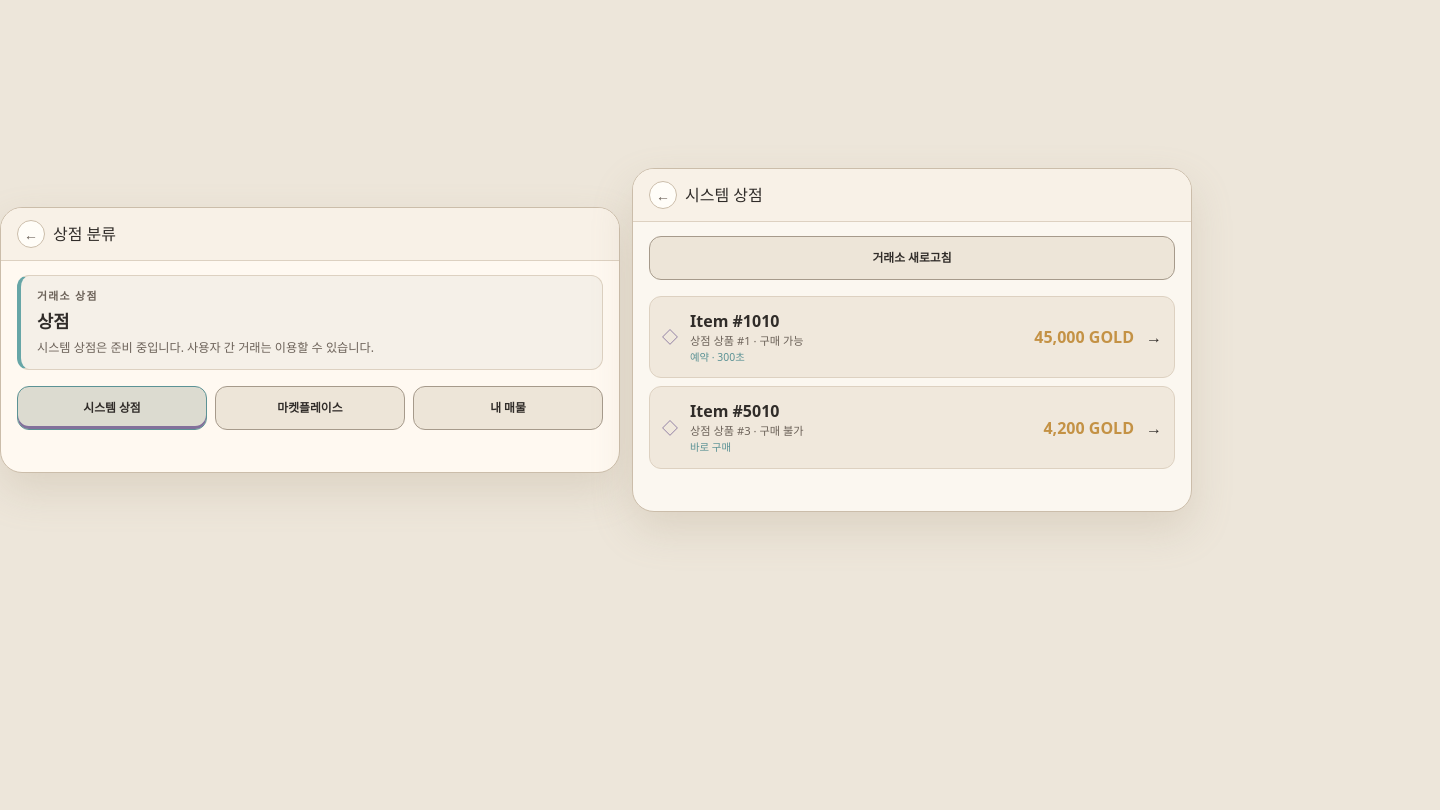
Test: canonical Exchange surfaces › deterministically restores the highest-id nonterminal purchase
Click the button "◇ Item #1010 상점 상품 #1 · 구매 가능 예약 · 300초 45,000 GOLD →".
click(735, 321)  # box left=649, top=296, right=1175, bottom=378
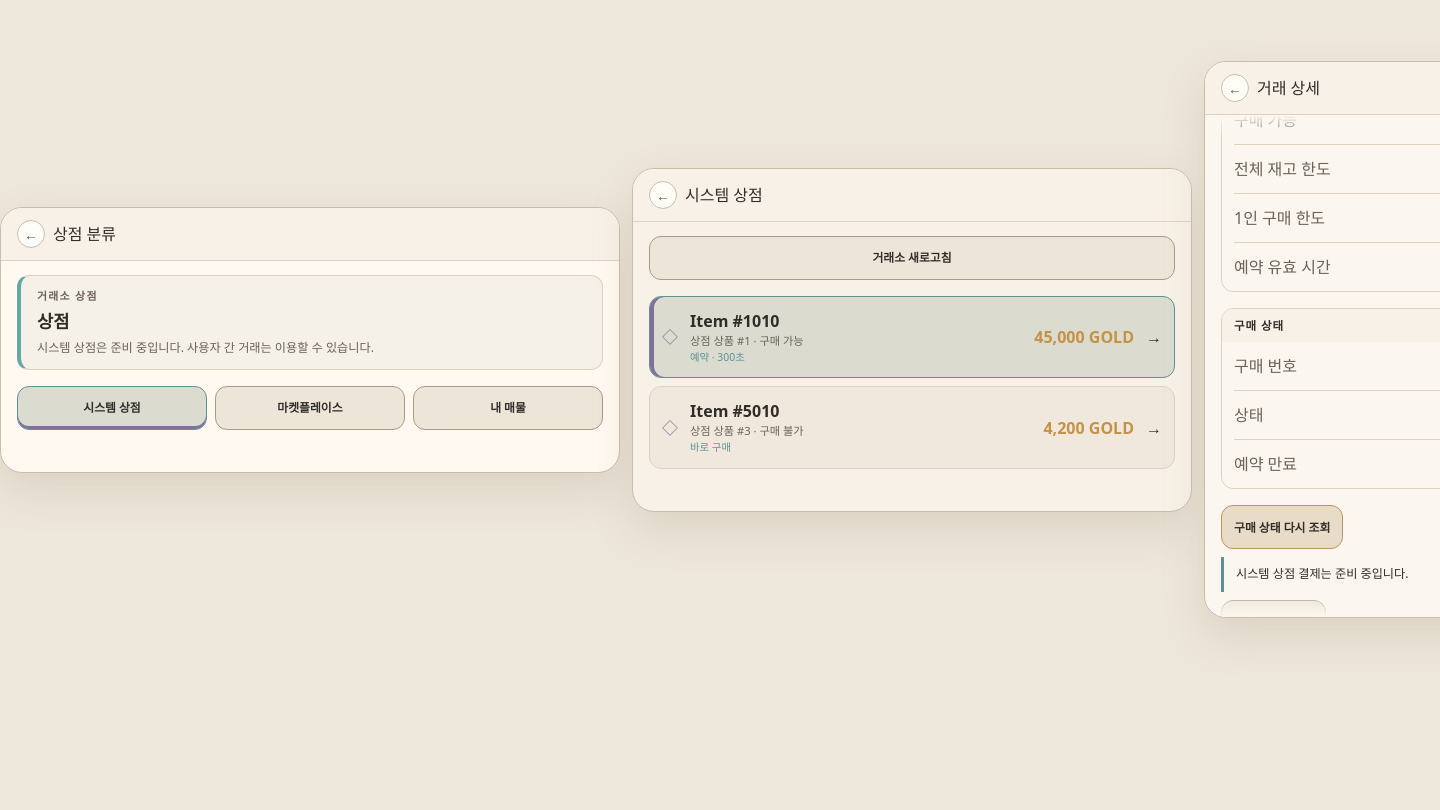
Expected: the button "구매 상태 다시 조회" is shown, left=1221, top=506, right=1343, bottom=550
